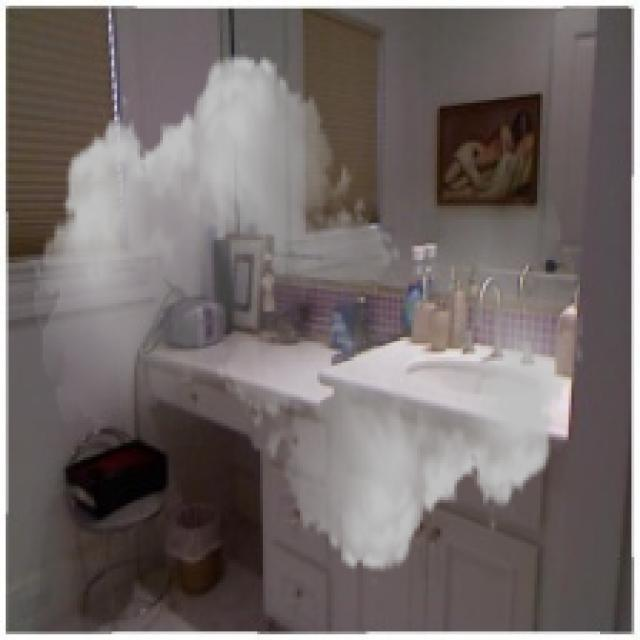Smoke: (34, 37, 583, 589)
